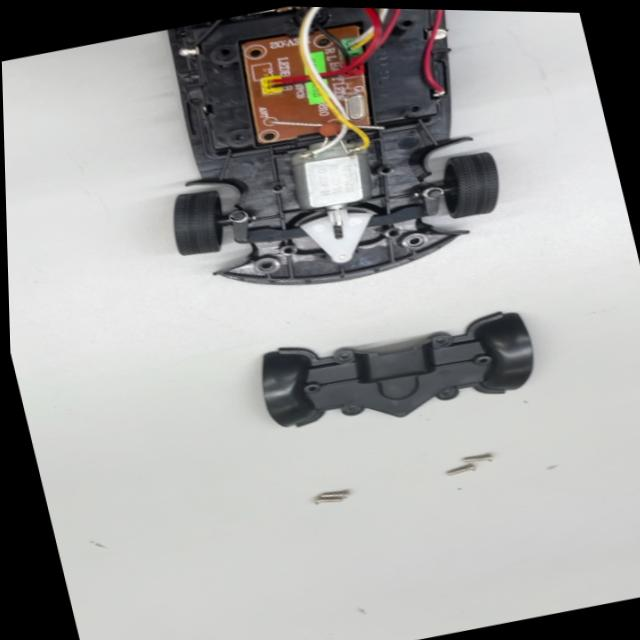Chassis: (156, 3, 494, 312)
motor: (272, 127, 391, 235)
motor_cover: (241, 297, 547, 457)
screw: (302, 478, 363, 517), (436, 458, 487, 486), (458, 445, 507, 472)
wheel: (432, 140, 536, 234), (158, 185, 245, 266)
